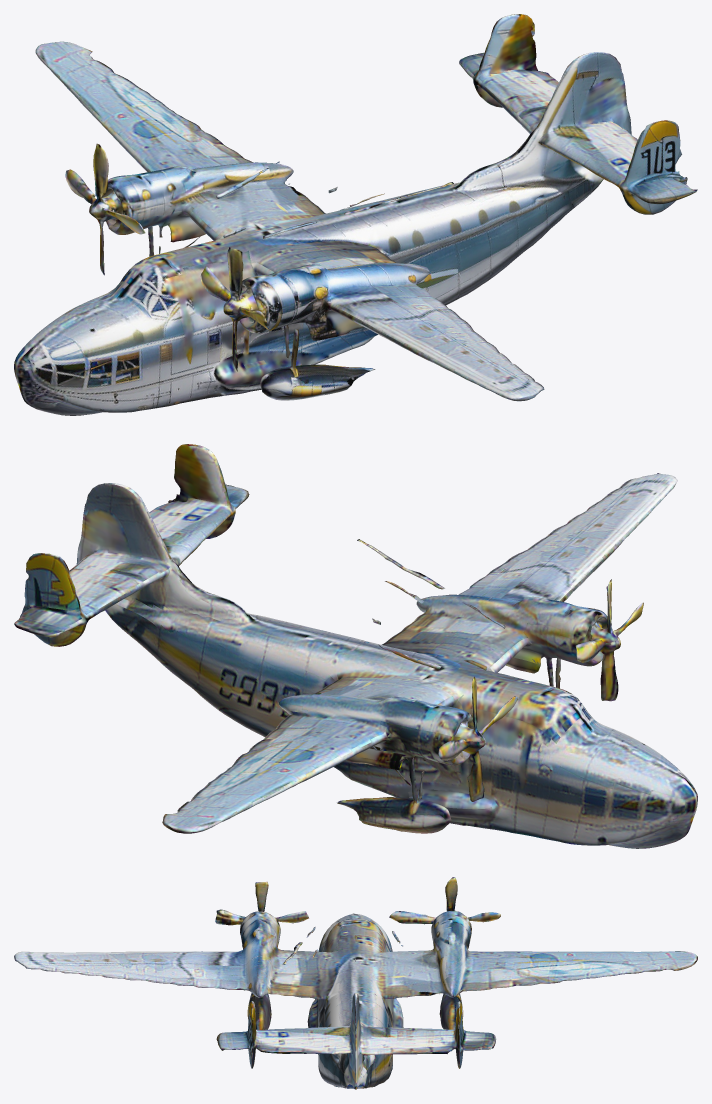
Rendered from boeing-v2.glb.
3 renders of one model, top to bottom at view 1: azimuth 30°, elevation 25°; view 2: azimuth 150°, elevation 25°; view 3: azimuth 270°, elevation 25°, orthographic. The views are drawn at different scales.
Size of the model in its own units: 0.7381 by 0.2777 by 1.
Materials: 1 (1 with a texture image).
